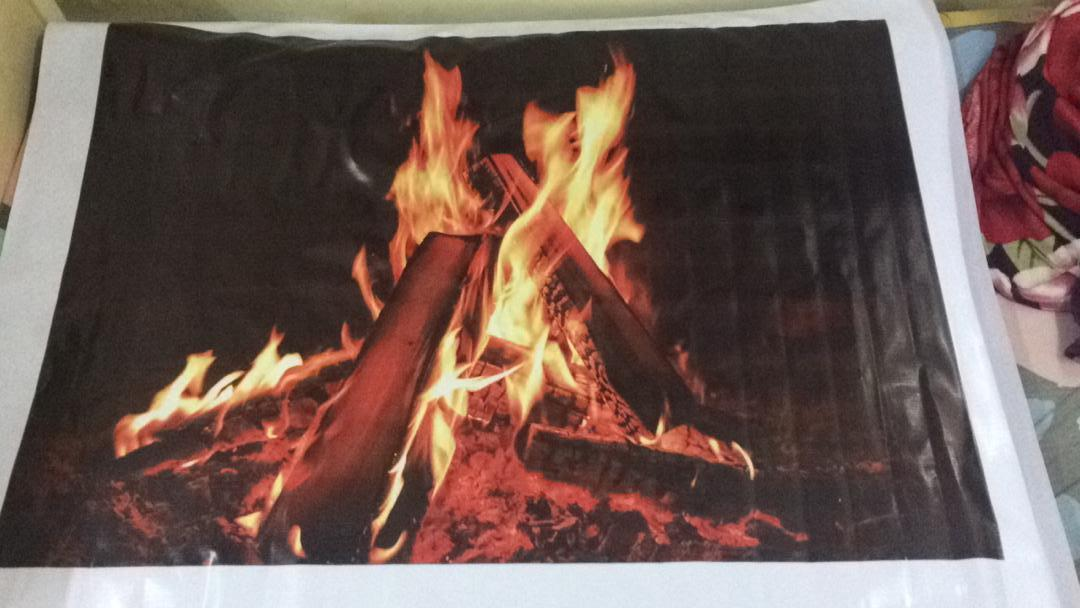fire: (136, 48, 798, 555)
